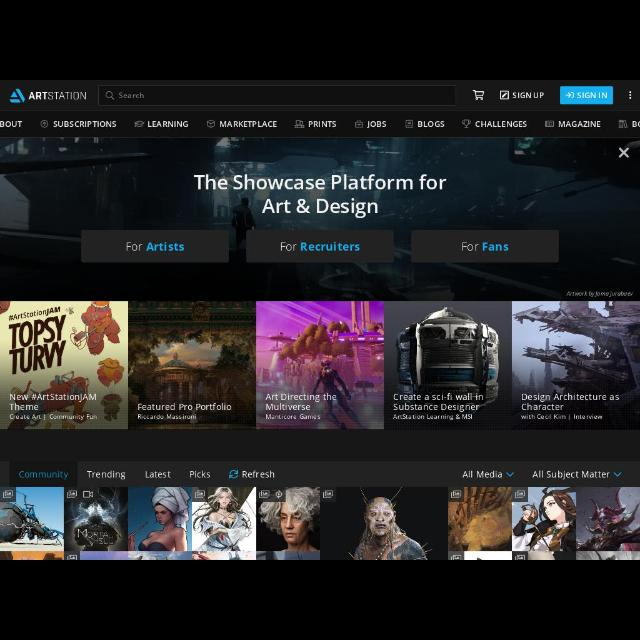backgroundimage: (1, 136, 640, 300), (513, 300, 639, 432), (0, 302, 128, 430), (386, 301, 512, 431), (129, 302, 257, 428), (258, 302, 384, 430), (320, 489, 448, 559), (256, 487, 320, 551), (1, 488, 64, 552), (450, 487, 512, 551), (512, 488, 576, 550), (193, 488, 255, 550), (64, 490, 126, 550)
icon: (242, 470, 274, 480), (472, 88, 486, 102), (1, 490, 16, 500), (104, 90, 116, 102), (194, 488, 206, 499), (294, 118, 304, 130), (354, 118, 364, 130), (618, 118, 628, 130), (66, 490, 78, 500), (258, 490, 270, 500), (515, 490, 527, 500), (206, 119, 217, 129), (451, 490, 462, 500), (322, 489, 334, 498), (404, 118, 414, 128), (134, 120, 146, 128), (544, 120, 556, 128), (82, 490, 94, 498), (499, 90, 508, 100), (40, 119, 49, 129), (462, 119, 471, 129), (274, 490, 282, 500), (506, 470, 514, 478), (614, 470, 622, 478), (566, 92, 574, 98), (628, 90, 632, 100)
image: (1, 551, 639, 559), (127, 487, 193, 551), (577, 487, 639, 551), (9, 88, 25, 104), (228, 470, 240, 480)
input: (100, 84, 457, 106)
multitab: (1, 112, 640, 136), (1, 463, 640, 487)
spinner: (532, 470, 622, 480), (462, 469, 514, 478)
text: (192, 174, 448, 220), (522, 393, 620, 411), (392, 393, 483, 412), (10, 393, 96, 411), (265, 394, 337, 411), (136, 402, 232, 412), (279, 242, 361, 252), (532, 470, 612, 480), (10, 414, 99, 421), (28, 90, 88, 100), (125, 242, 185, 252), (18, 470, 68, 482), (521, 414, 603, 421), (393, 414, 473, 421), (52, 120, 118, 128), (460, 242, 510, 252), (218, 120, 278, 128), (476, 120, 528, 128), (86, 470, 126, 480), (265, 414, 321, 421), (137, 414, 196, 420), (558, 120, 602, 128), (147, 120, 189, 128), (462, 471, 503, 479), (118, 90, 144, 100), (512, 91, 544, 99), (577, 92, 607, 100), (308, 120, 337, 128), (417, 120, 445, 128), (144, 471, 172, 479), (1, 120, 22, 130), (189, 471, 211, 479), (366, 120, 386, 128), (632, 120, 638, 128)
textbutton: (246, 230, 394, 264), (82, 230, 228, 264), (412, 230, 558, 264), (10, 463, 78, 487), (560, 85, 614, 105)
toolbar: (0, 82, 638, 110)
